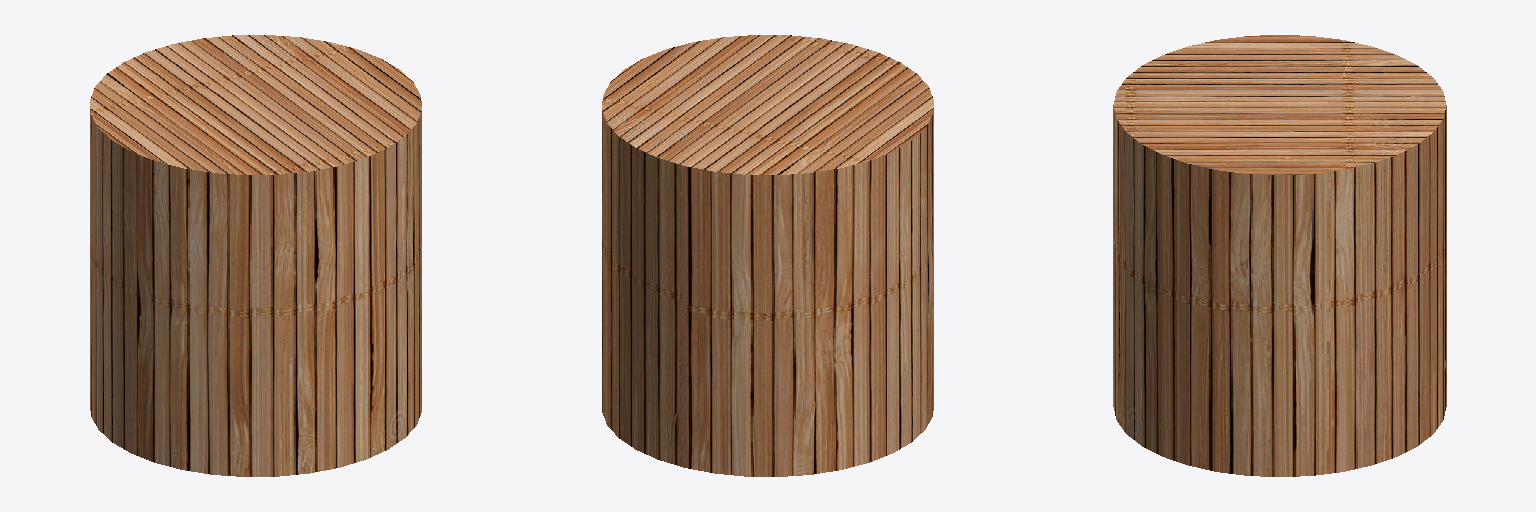
3 views of the same model, side by side, from view 1: azimuth 30°, elevation 25°; view 2: azimuth 150°, elevation 25°; view 3: azimuth 270°, elevation 25° (orthographic).
Visible parts, largest first — view 1: Cylinder; view 2: Cylinder; view 3: Cylinder.
Boxes of the visible parts, x1=… form: Cylinder: x1=90, y1=35, x2=421, y2=476; Cylinder: x1=602, y1=35, x2=933, y2=476; Cylinder: x1=1113, y1=35, x2=1446, y2=476.
Size of the model in its own units: 2 by 2 by 2.
1 materials, 1 textured.